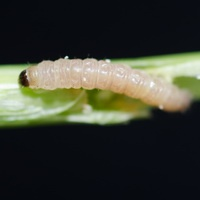insect: (19, 58, 191, 110)
